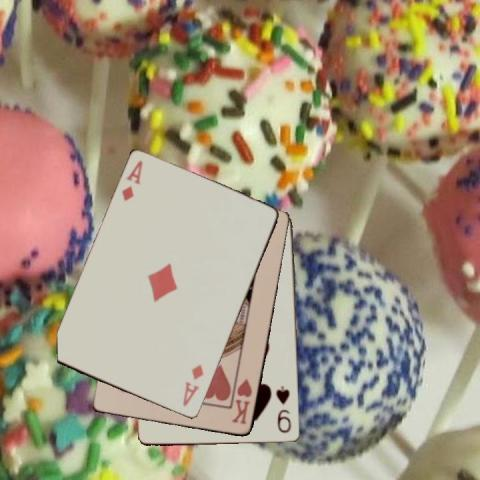9s: (273, 383, 293, 435)
Ad: (180, 361, 206, 408), (119, 158, 144, 204)
Kh: (229, 376, 254, 426)
